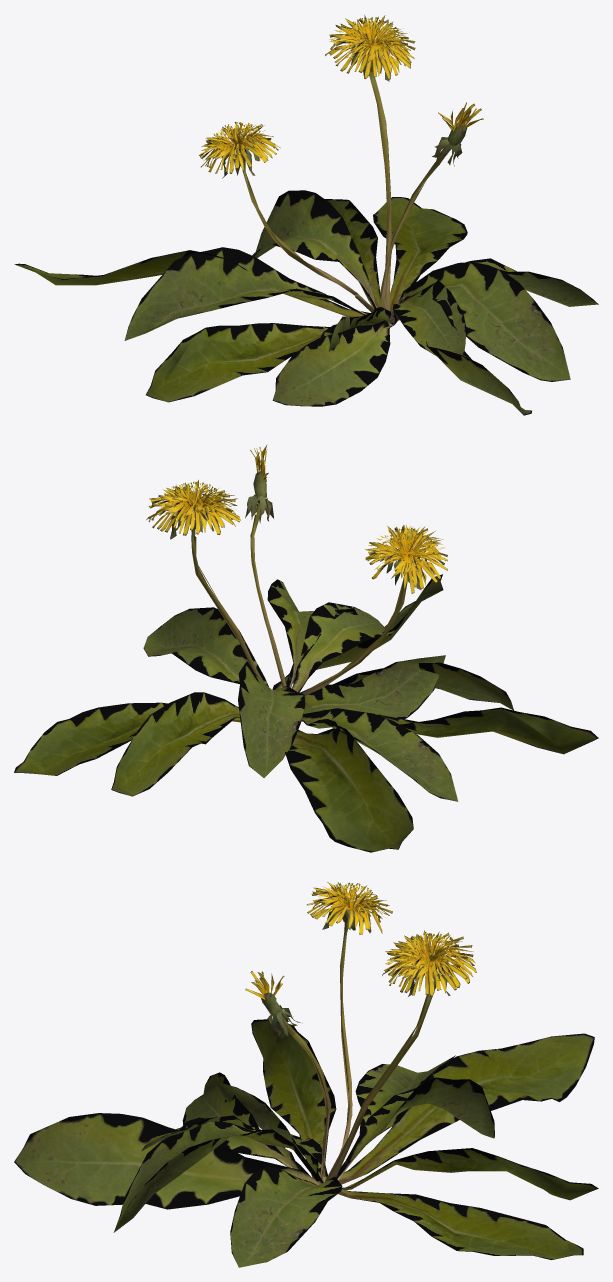
File: dandelion_01_b.glb
3 views of the same model, one above another, from view 1: azimuth 30°, elevation 25°; view 2: azimuth 150°, elevation 25°; view 3: azimuth 270°, elevation 25° (orthographic). The views are drawn at different scales.
Visible parts, largest first — view 1: dandelion_01_b_LOD0; view 2: dandelion_01_b_LOD0; view 3: dandelion_01_b_LOD0.
Part boxes in pixels (x1,y1,x2,y2): dandelion_01_b_LOD0: (14,15,598,415); dandelion_01_b_LOD0: (14,445,598,852); dandelion_01_b_LOD0: (14,882,598,1267).
Bounding box in the file's own units: 0.202 × 0.114 × 0.218.
Materials: 1 (1 with a texture image).
